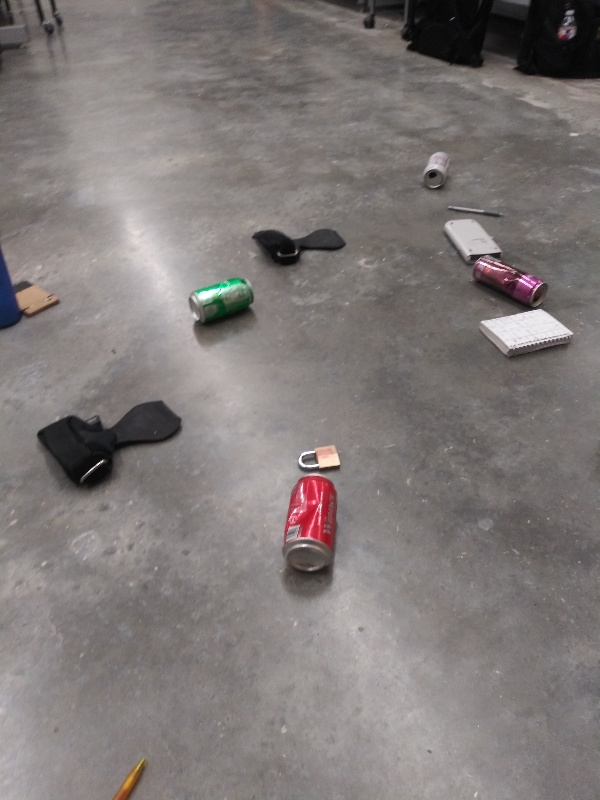can: (278, 469, 344, 579), (464, 253, 553, 310), (186, 275, 258, 328), (419, 143, 452, 192)
